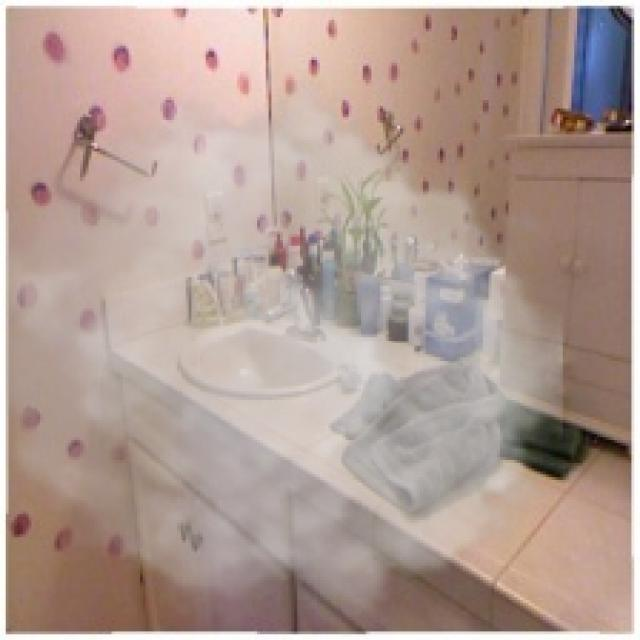Smoke: (6, 72, 563, 638)
